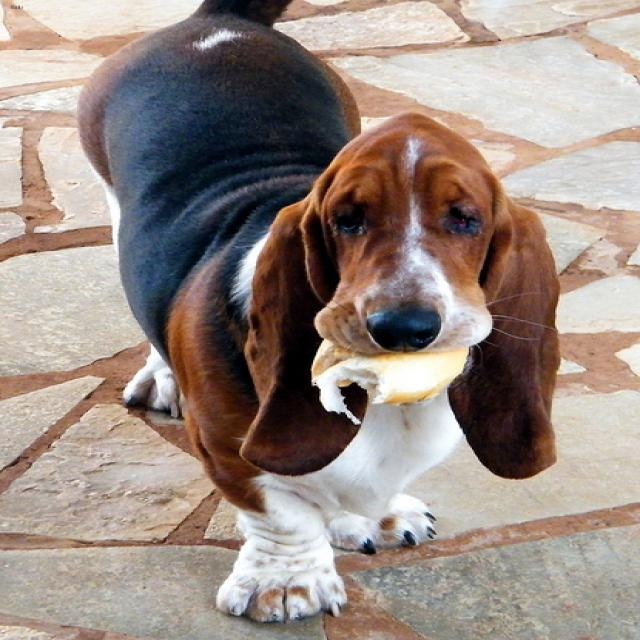dog-basset_hound: (60, 1, 572, 628)
